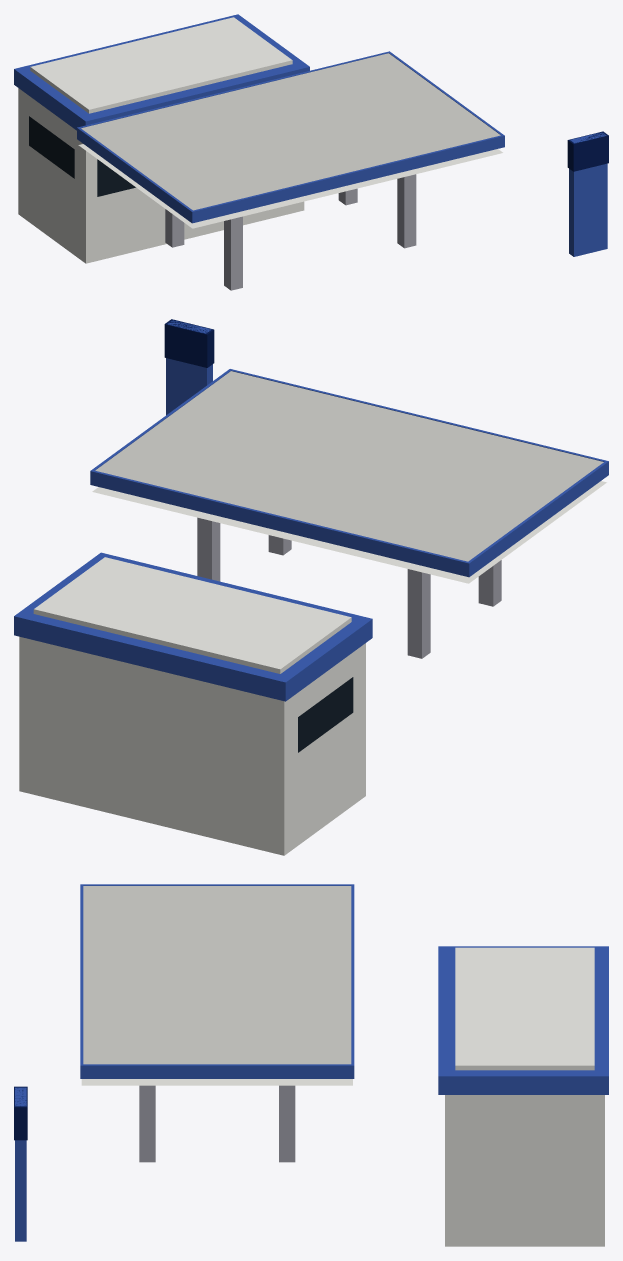
Rendered from azs_snp.lod.glb.
3 renders of one model, top to bottom at view 1: azimuth 30°, elevation 25°; view 2: azimuth 150°, elevation 25°; view 3: azimuth 270°, elevation 25°, orthographic. The views are drawn at different scales.
Visible parts, largest first — view 1: azs_snp_canopy, azs_snp_shop_wall, azs_snp_brand, azs_snp_shop_band, azs_snp_clad, azs_snp_stela, azs_snp_soffit, azs_snp_shop_glass, azs_snp_stela2; view 2: azs_snp_shop_wall, azs_snp_canopy, azs_snp_shop_band, azs_snp_brand, azs_snp_clad, azs_snp_soffit, azs_snp_shop_glass, azs_snp_stela2, azs_snp_stela; view 3: azs_snp_canopy, azs_snp_shop_wall, azs_snp_shop_band, azs_snp_brand, azs_snp_clad, azs_snp_soffit, azs_snp_stela, azs_snp_stela2.
Part boxes in pixels (left/top/right/bottom): azs_snp_canopy: left=81, top=53, right=500, bottom=210; azs_snp_shop_wall: left=18, top=17, right=304, bottom=263; azs_snp_brand: left=77, top=51, right=504, bottom=223; azs_snp_shop_band: left=14, top=14, right=309, bottom=130; azs_snp_clad: left=165, top=174, right=416, bottom=290; azs_snp_stela: left=569, top=132, right=607, bottom=256; azs_snp_soffit: left=78, top=144, right=502, bottom=228; azs_snp_shop_glass: left=29, top=116, right=135, bottom=196; azs_snp_stela2: left=567, top=131, right=608, bottom=171; azs_snp_shop_wall: left=19, top=557, right=365, bottom=855; azs_snp_canopy: left=95, top=371, right=603, bottom=561; azs_snp_shop_band: left=14, top=552, right=372, bottom=701; azs_snp_brand: left=90, top=369, right=608, bottom=577; azs_snp_clad: left=197, top=517, right=501, bottom=658; azs_snp_soffit: left=92, top=481, right=606, bottom=583; azs_snp_shop_glass: left=298, top=677, right=353, bottom=752; azs_snp_stela2: left=164, top=319, right=214, bottom=367; azs_snp_stela: left=166, top=320, right=212, bottom=415; azs_snp_canopy: left=83, top=886, right=351, bottom=1064; azs_snp_shop_wall: left=445, top=947, right=604, bottom=1246; azs_snp_shop_band: left=438, top=946, right=608, bottom=1094; azs_snp_brand: left=80, top=884, right=354, bottom=1078; azs_snp_clad: left=139, top=1085, right=295, bottom=1162; azs_snp_soffit: left=81, top=1079, right=352, bottom=1085; azs_snp_stela: left=15, top=1087, right=26, bottom=1241; azs_snp_stela2: left=14, top=1086, right=27, bottom=1140.
Size of the model in its own units: 20.64 by 9 by 23.01.
